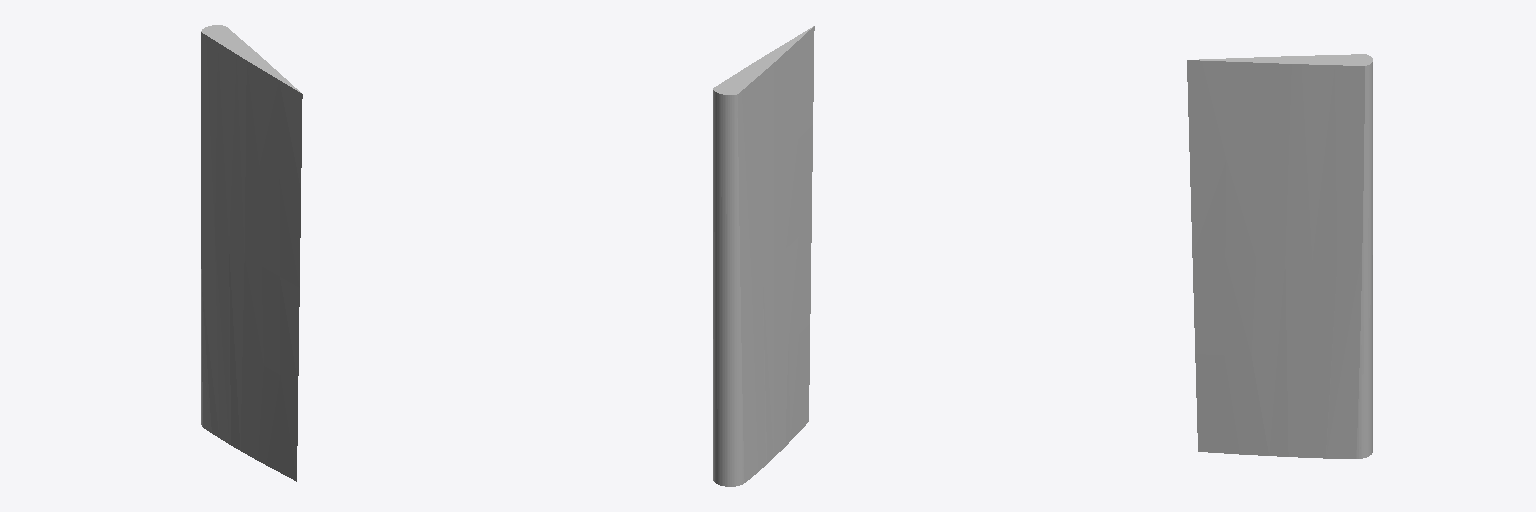
Rendered from Rudder.obj.
The picture shows the model from 3 angles: view 1: azimuth 30°, elevation 25°; view 2: azimuth 150°, elevation 25°; view 3: azimuth 270°, elevation 25°; orthographic projection.
Visible parts, largest first — view 1: mesh2.003, mesh0.003; view 2: mesh2.003, mesh3.003, mesh0.003; view 3: mesh1.003, mesh3.003, mesh0.003.
Part boxes in pixels (x1,y1,x2,y2): mesh2.003: (201, 32, 302, 481); mesh0.003: (201, 25, 300, 92); mesh2.003: (738, 26, 814, 482); mesh3.003: (713, 90, 744, 486); mesh0.003: (713, 26, 813, 94); mesh1.003: (1187, 60, 1364, 458); mesh3.003: (1356, 62, 1372, 458); mesh0.003: (1199, 54, 1372, 65).
Size of the model in its own units: 0.1524 by 1.95 by 0.8414.